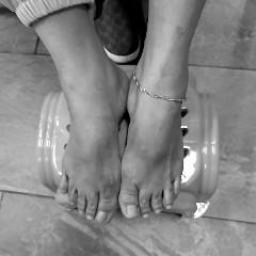Dorsal View -Both Feet-: (29, 31, 211, 238)
